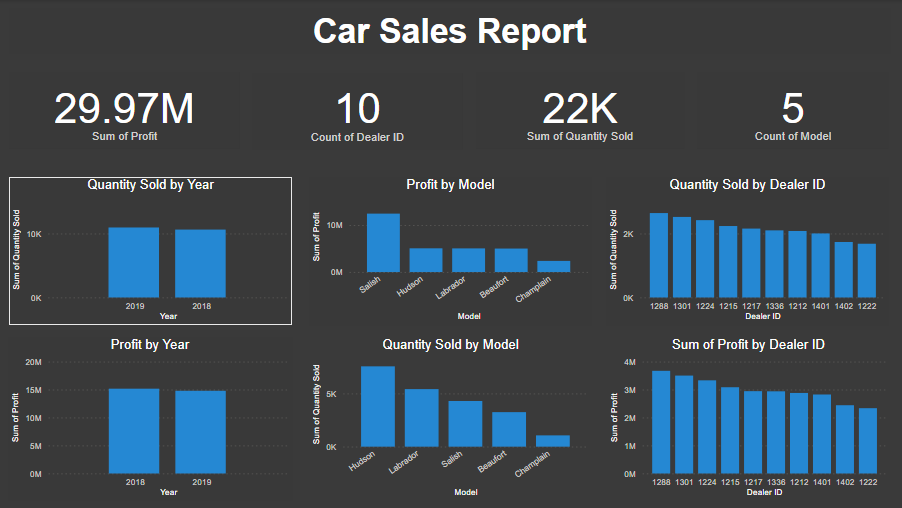

The dashboard page shown, as its layout file describes it:
{"tool":"powerbi","page":{"name":"Page 1","canvas":[1280,720],"ordinal":0},"visuals":[{"type":"card","fields":{"Values":["Sum(CarSales.Profit)"]},"box":[14.8,14.8,327.4,108.6],"z":0},{"type":"card","fields":{"Values":["Count(CarSales.Dealer ID)"]},"box":[358.7,16.5,299.4,108.6],"z":1000},{"type":"card","fields":{"Values":["Sum(CarSales.Quantity Sold)"]},"box":[676.2,14.8,294.5,108.6],"z":2000},{"type":"card","fields":{"Values":["Count(CarSales.Model)"]},"box":[988.8,14.8,273.1,108.6],"z":3000},{"type":"columnChart","title":"Quantity Sold by Year","fields":{"Category":["CarSales.Year"],"Y":["Sum(CarSales.Quantity Sold)"]},"box":[14.8,159.6,401.4,261.6],"z":4000},{"type":"columnChart","title":"Profit by Year","fields":{"Category":["CarSales.Year"],"Y":["Sum(CarSales.Profit)"]},"box":[14.8,437.6,401.4,261.6],"z":5000},{"type":"columnChart","title":"Profit by Model","fields":{"Category":["CarSales.Model"],"Y":["Sum(CarSales.Profit)"]},"box":[439.3,159.6,401.4,261.6],"z":6000},{"type":"columnChart","title":" Quantity Sold by Model","fields":{"Category":["CarSales.Model"],"Y":["Sum(CarSales.Quantity Sold)"]},"box":[439.3,437.6,401.4,261.6],"z":7000},{"type":"columnChart","title":"Quantity Sold by Dealer ID","fields":{"Category":["CarSales.Dealer ID"],"Y":["Sum(CarSales.Quantity Sold)"]},"box":[860.5,159.6,401.4,261.6],"z":8000},{"type":"columnChart","fields":{"Category":["CarSales.Dealer ID"],"Y":["Sum(CarSales.Profit)"]},"box":[860,438,402,262],"z":9000}]}

Visuals, with their boxes in screenshot pixels (x1, y1, x2, y2), scaled from the page's 1280x720 canvas onto the 902x508 screenshot:
card - Sum(CarSales.Profit): bbox=[10, 10, 241, 87]
card - Count(CarSales.Dealer ID): bbox=[253, 12, 464, 88]
card - Sum(CarSales.Quantity Sold): bbox=[477, 10, 684, 87]
card - Count(CarSales.Model): bbox=[697, 10, 889, 87]
"Quantity Sold by Year" columnChart: bbox=[10, 113, 293, 297]
"Profit by Year" columnChart: bbox=[10, 309, 293, 493]
"Profit by Model" columnChart: bbox=[310, 113, 592, 297]
" Quantity Sold by Model" columnChart: bbox=[310, 309, 592, 493]
"Quantity Sold by Dealer ID" columnChart: bbox=[606, 113, 889, 297]
columnChart - CarSales.Dealer ID x Sum(CarSales.Profit): bbox=[606, 309, 889, 494]
